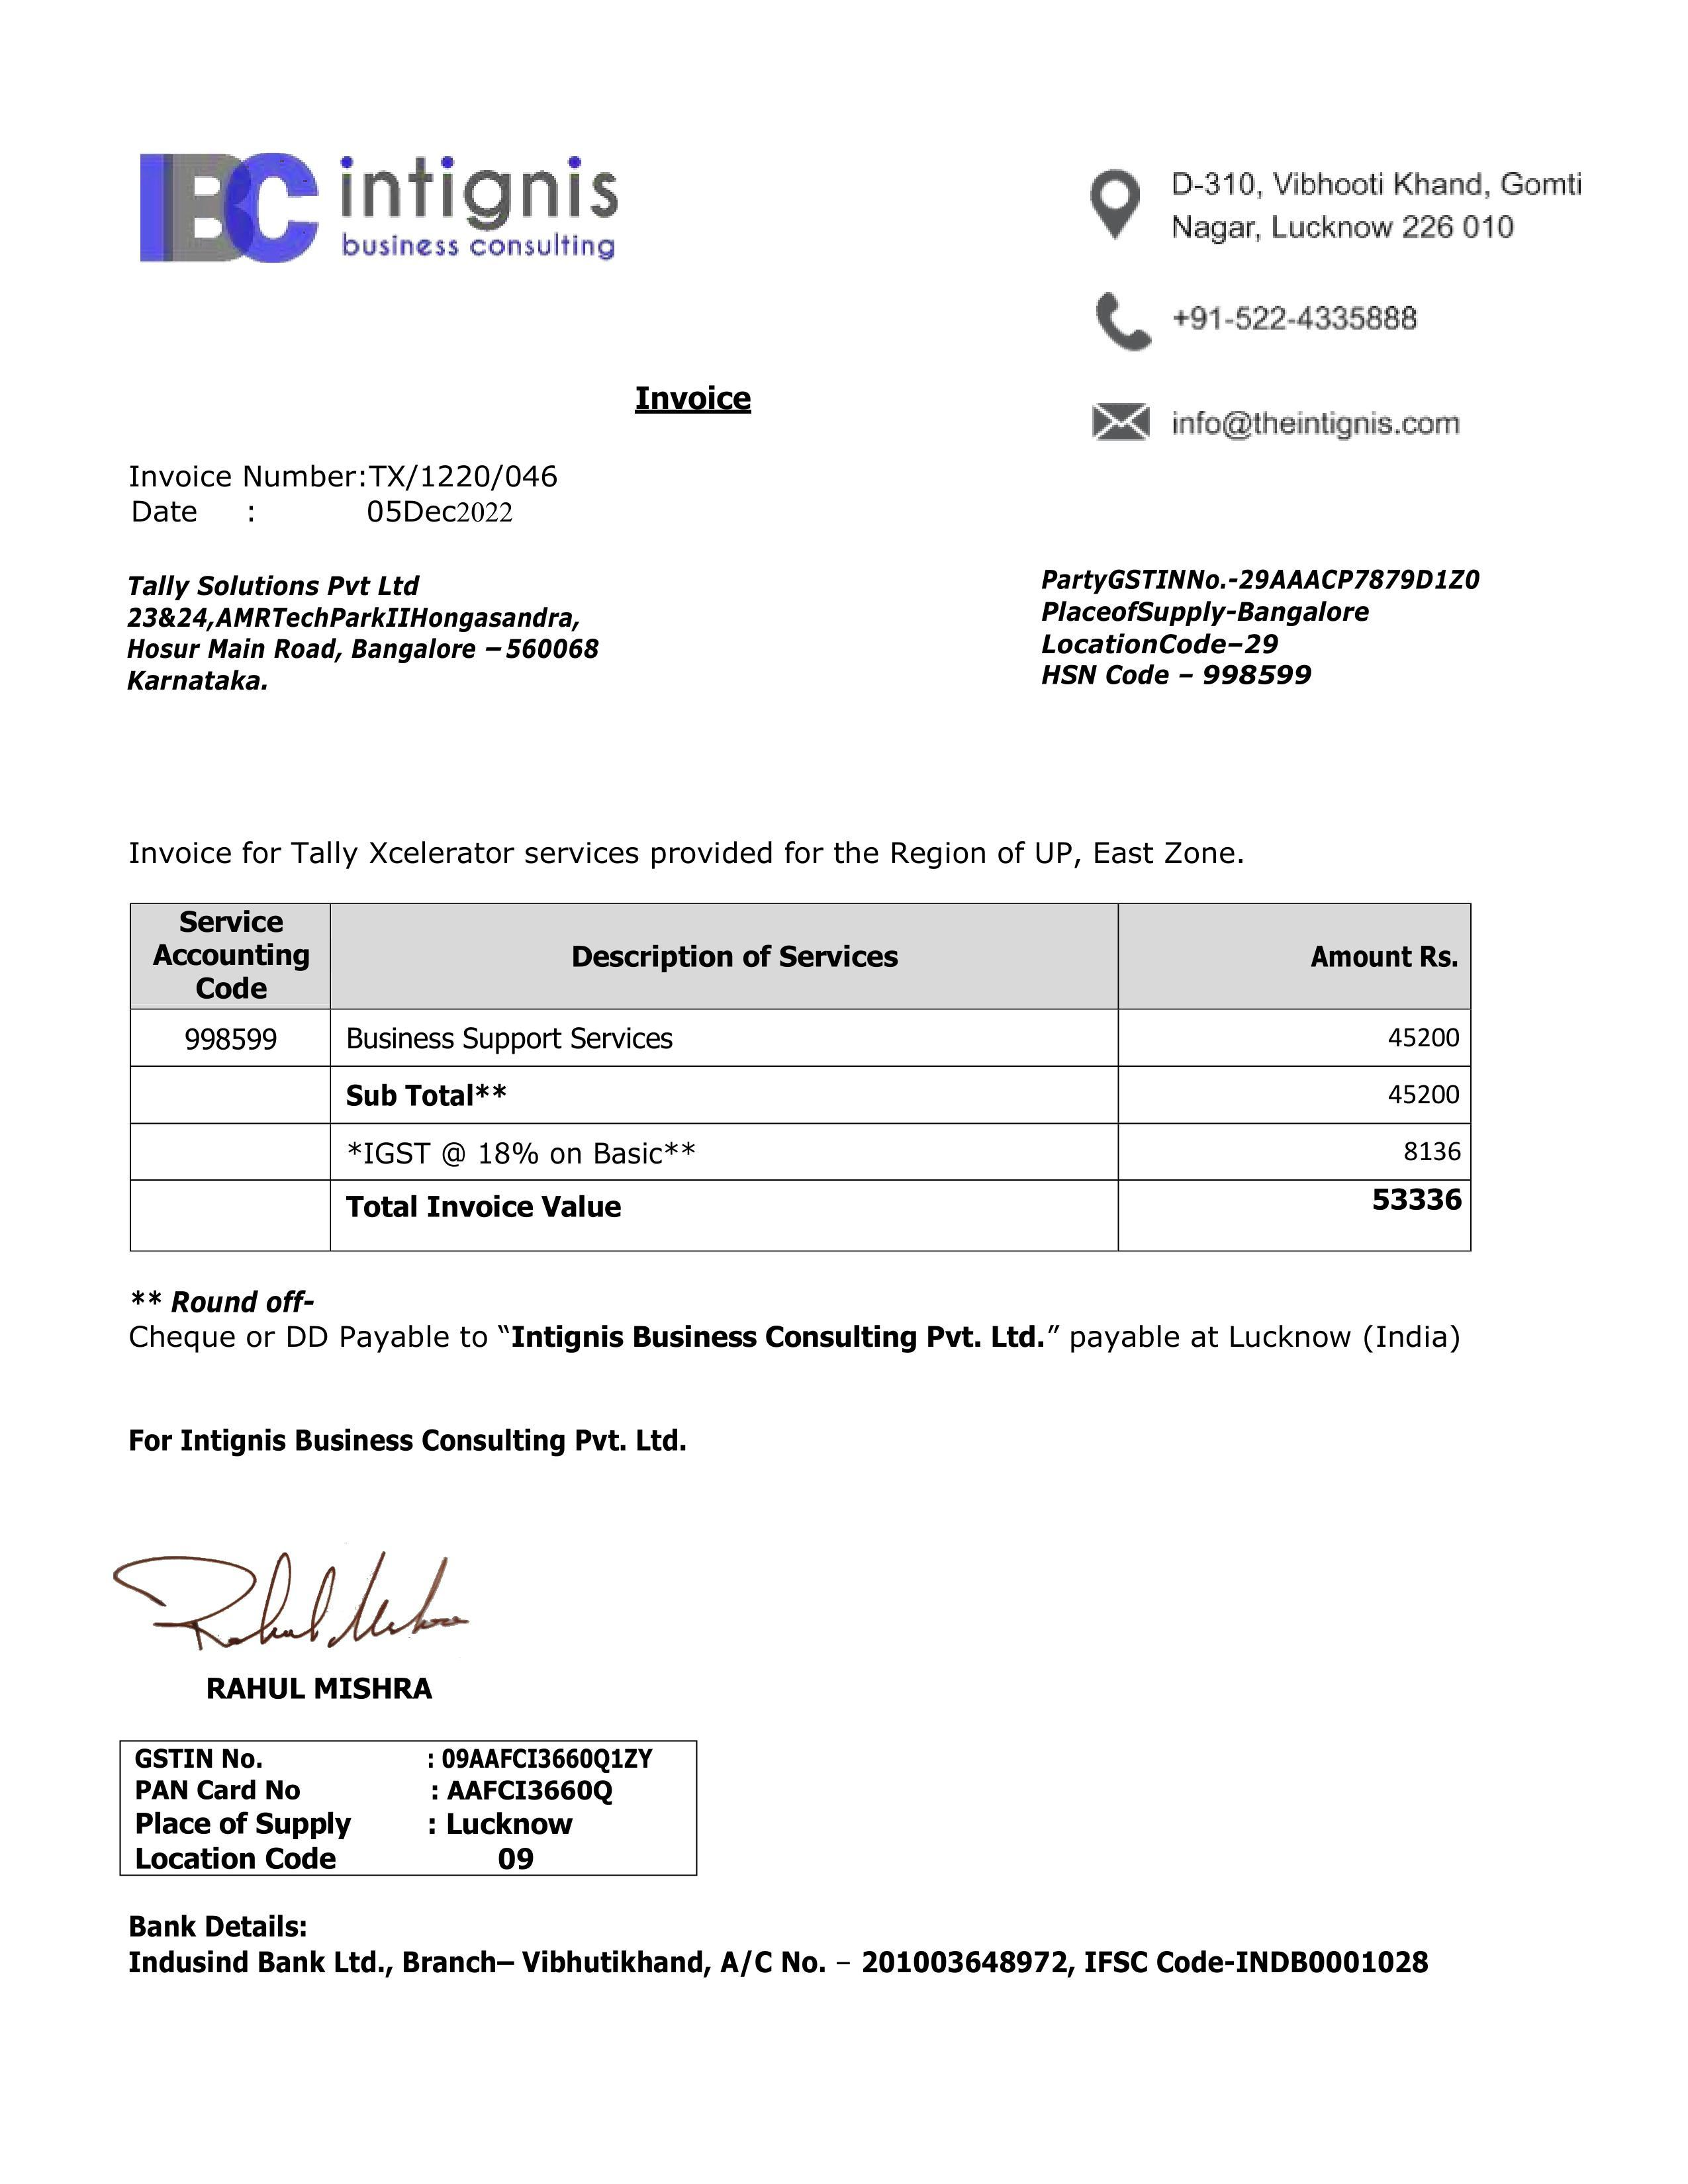InvoiceDate: (365, 500, 523, 526)
InvoiceNumber: (363, 456, 569, 496)
TotalAmount: (1369, 1184, 1466, 1220)
